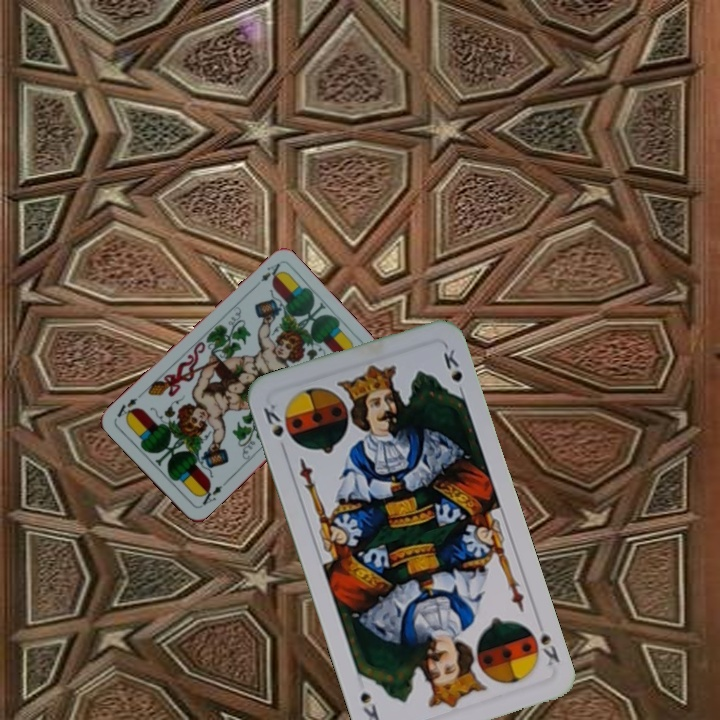EA: (250, 259, 284, 291), (195, 478, 229, 509)
SK: (532, 615, 563, 669), (259, 400, 287, 440)
